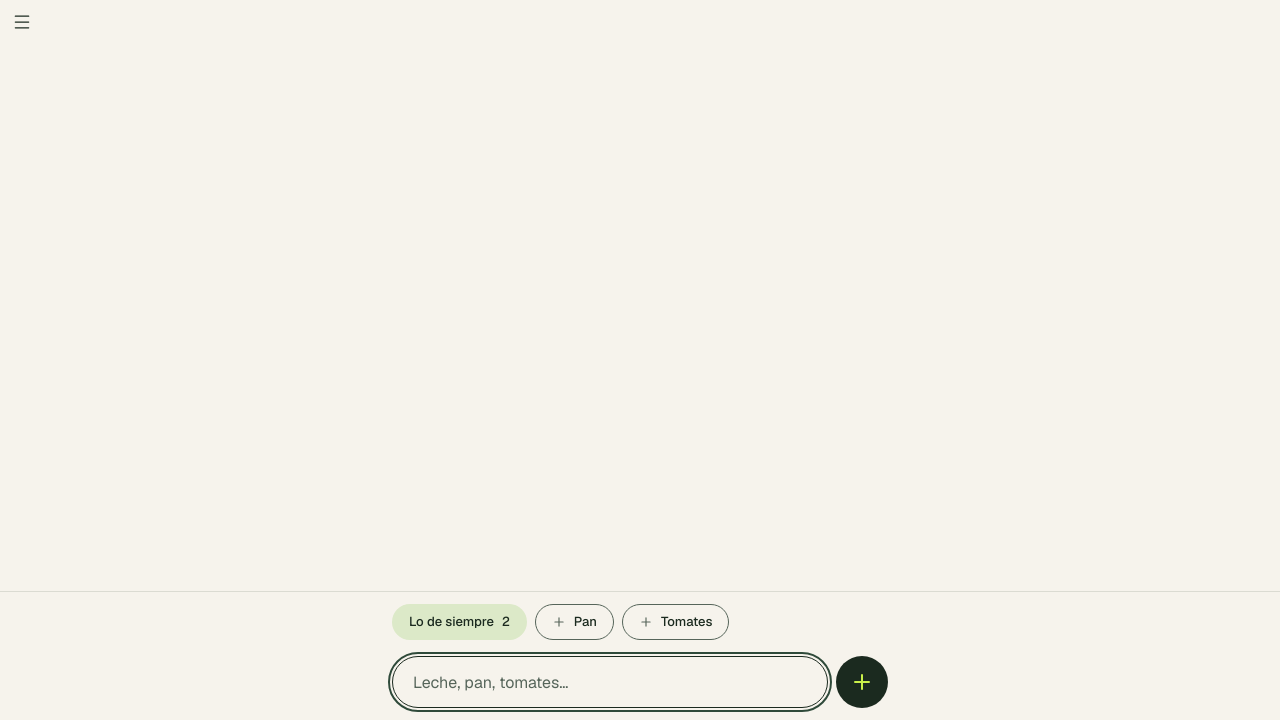
Test case: Compras anteriores › closes the menu before the trip opens: never two sheets at once
The width and height of the screenshot is (1280, 720).
Step 1. Click the button named "Abrir menú" → (22, 22), box [0,0,44,44]
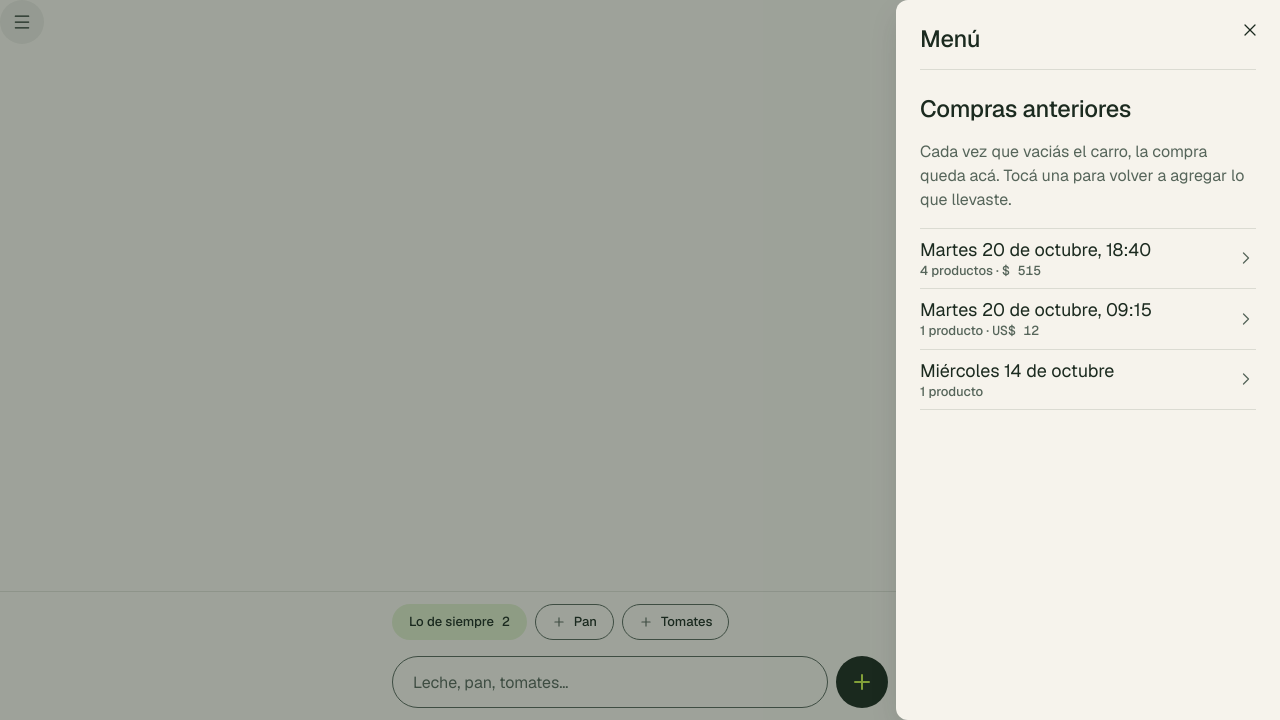
Step 2. Click the button "Martes 20 de octubre, 18:40 4 productos · $ 515" → (1088, 258), box [912,229,1264,288]
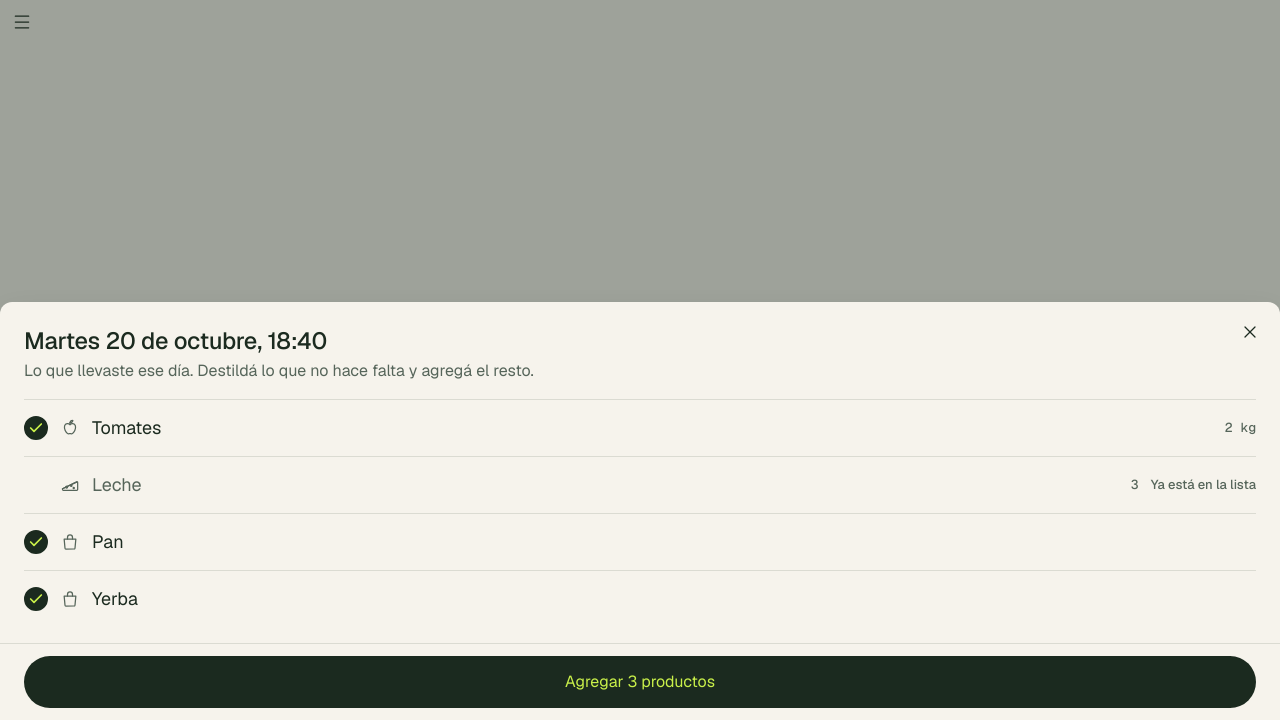
Expected: the heading "Menú" is gone
